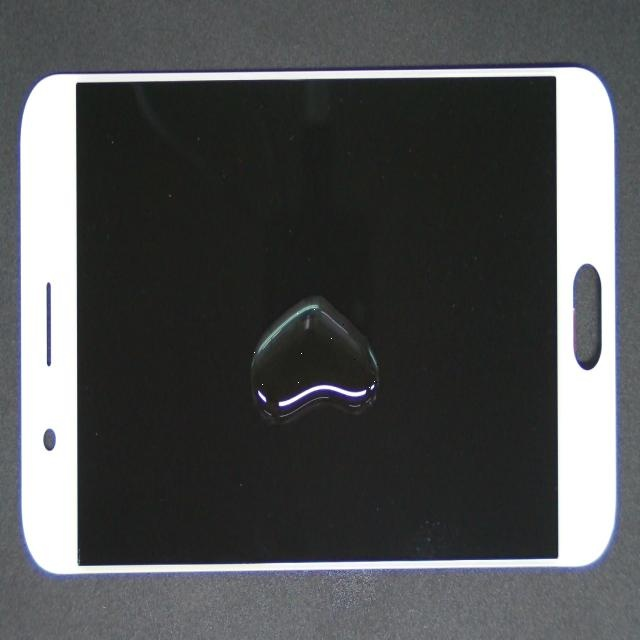oil: (127, 152, 382, 559)
